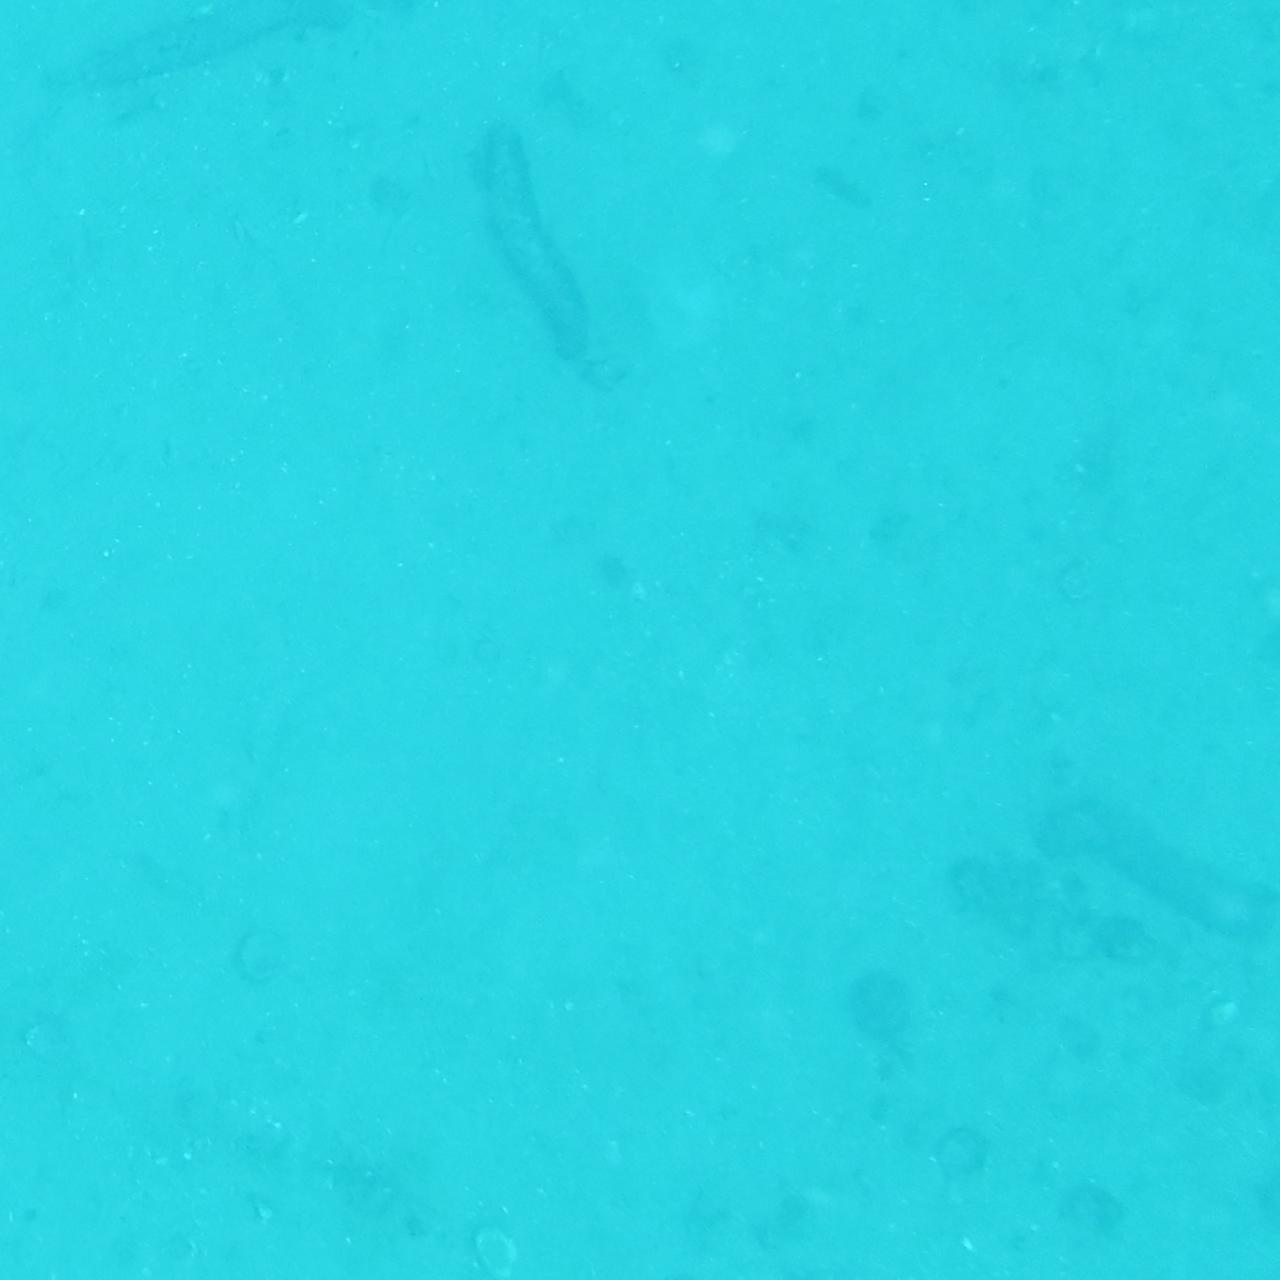Holothuria tubulosa: (1051, 769, 1280, 939), (479, 97, 588, 406), (76, 0, 368, 96), (6, 0, 212, 80), (802, 1238, 1137, 1280)
